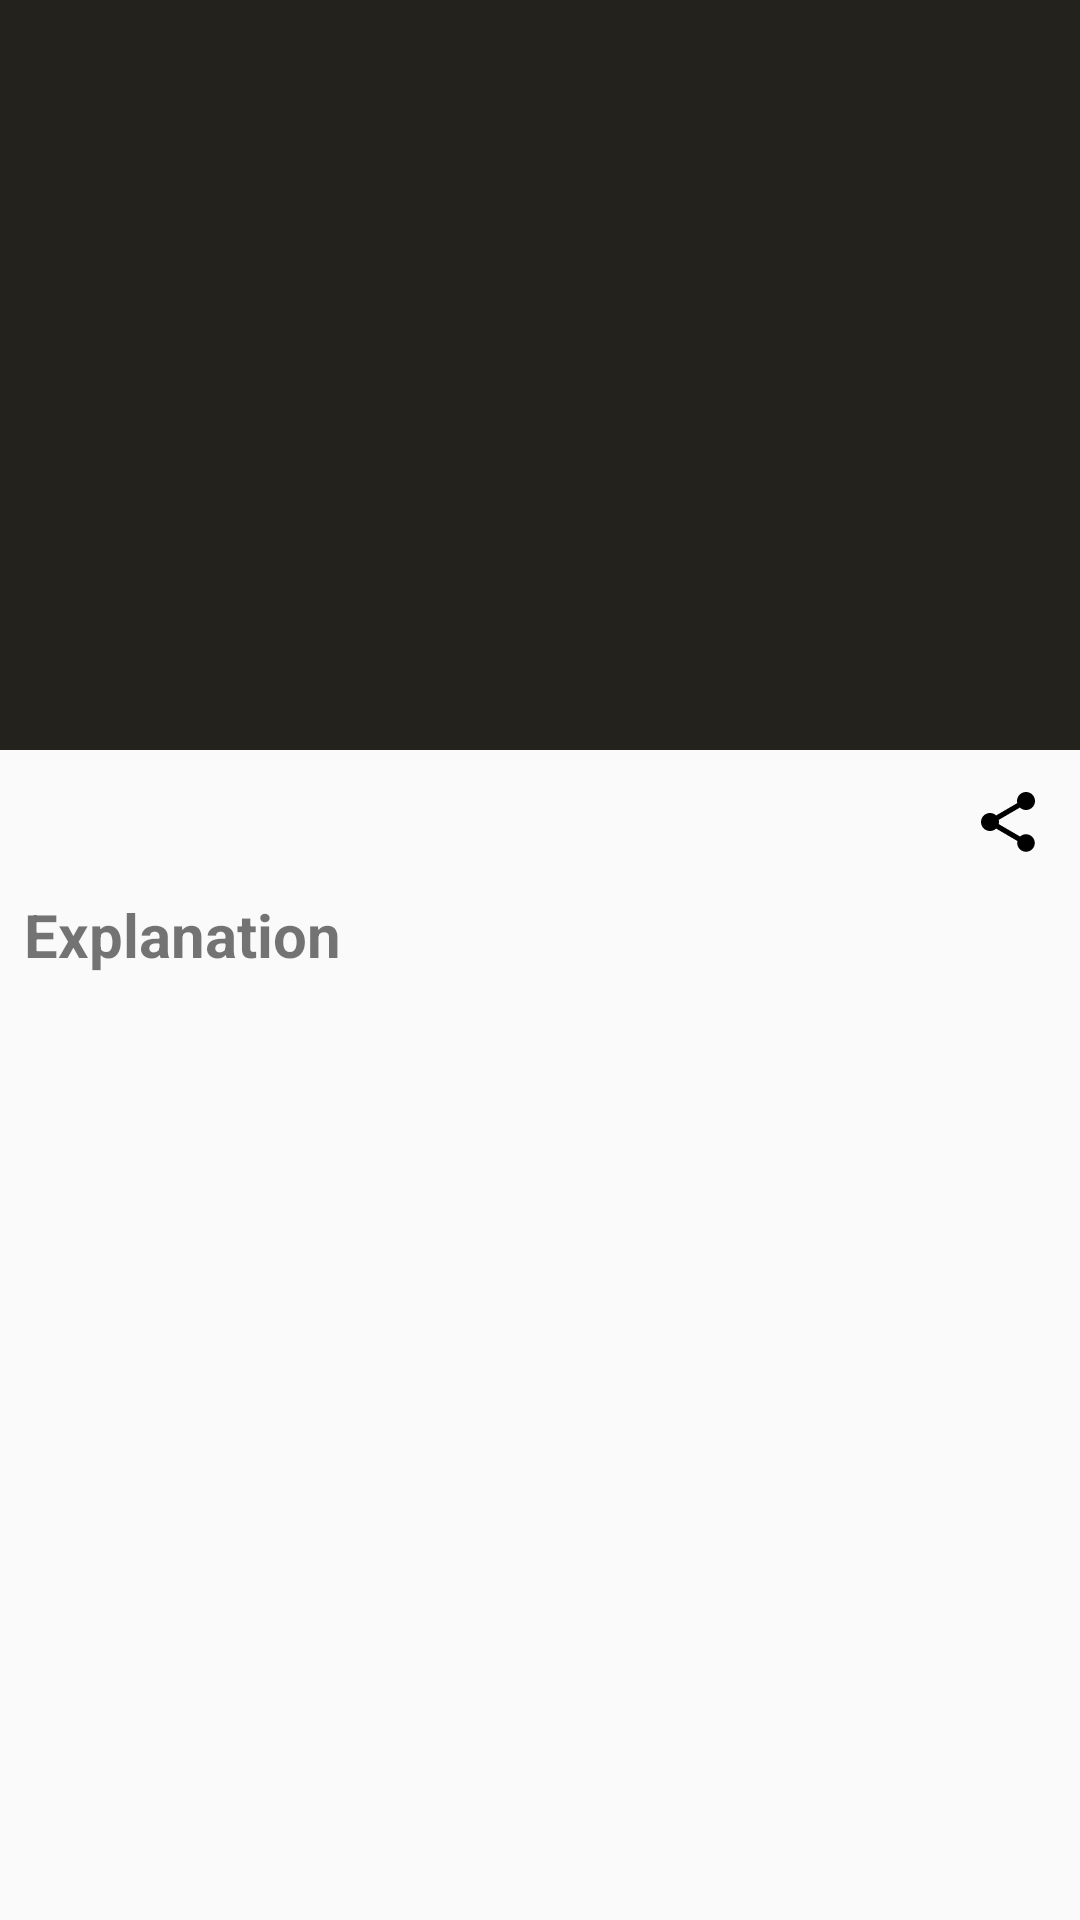

Named icons in this screenshot (1080*1920) and their bounding boxes, box(x1, y1, x2, y2):
DetailActivity share button: box(981, 792, 1035, 852)
